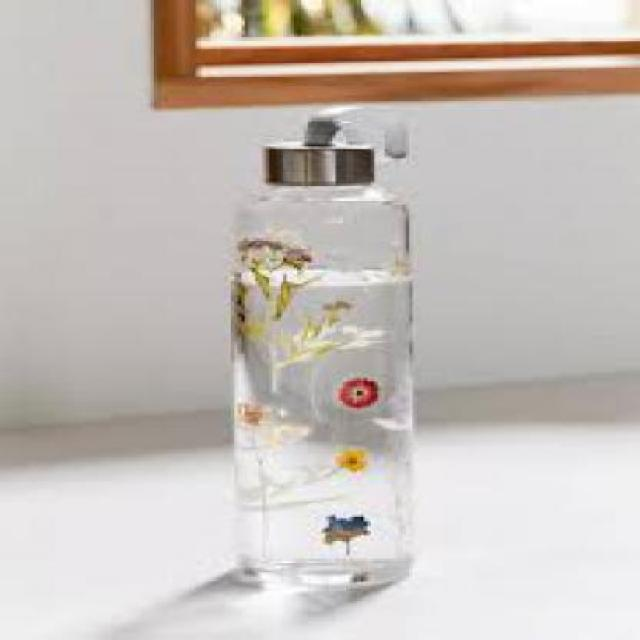Drinking: (139, 93, 490, 610)
